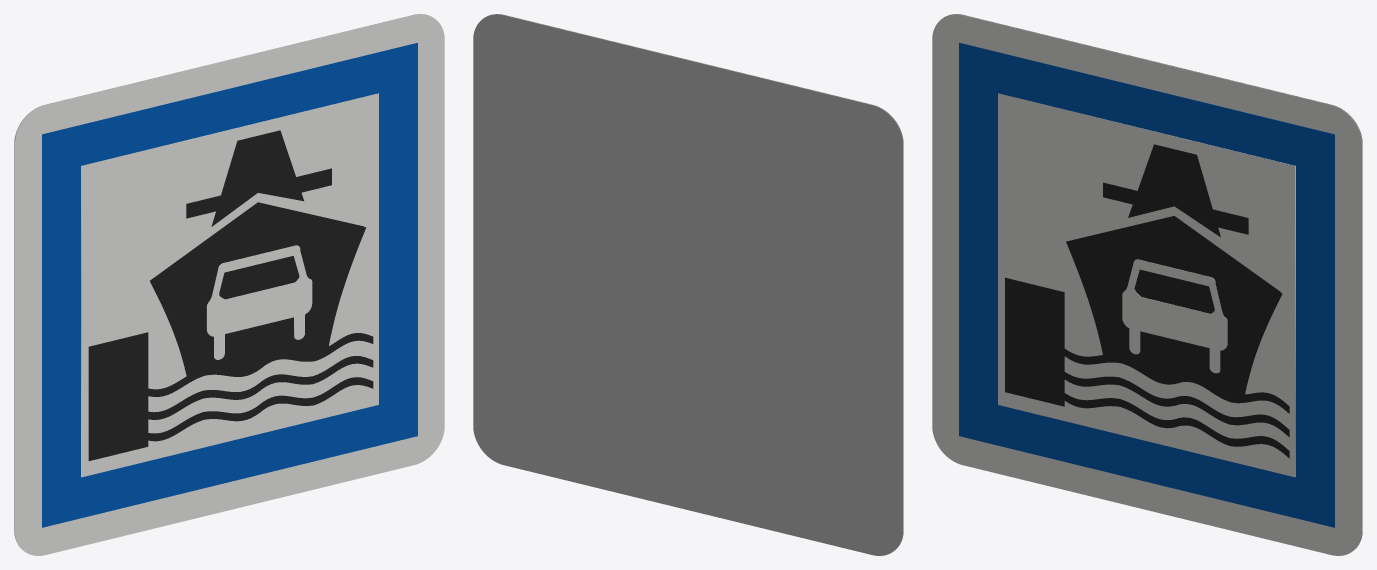
The picture shows the model from 3 angles, left to right: view 1: azimuth 30°, elevation 25°; view 2: azimuth 150°, elevation 25°; view 3: azimuth 330°, elevation 25°; orthographic projection.
Visible parts, largest first — view 1: CE10_p01, CE10_p02, CE10_p00, CE10_p04, CE10_p07, CE10_p03, CE10_p06, CE10_dos; view 2: CE10_dos, CE10_p00; view 3: CE10_p01, CE10_p02, CE10_p00, CE10_p04, CE10_p07, CE10_p03, CE10_p06, CE10_dos.
Part boxes in pixels (x1,y1,x2,y2): CE10_p01: [42, 42, 417, 527]; CE10_p02: [81, 93, 378, 477]; CE10_p00: [14, 14, 444, 555]; CE10_p04: [88, 202, 373, 460]; CE10_p07: [206, 245, 312, 359]; CE10_p03: [186, 130, 331, 226]; CE10_p06: [219, 256, 299, 299]; CE10_dos: [14, 14, 431, 547]; CE10_dos: [473, 14, 903, 555]; CE10_p00: [486, 14, 903, 547]; CE10_p01: [959, 42, 1334, 527]; CE10_p02: [998, 93, 1295, 477]; CE10_p00: [932, 14, 1362, 555]; CE10_p04: [1005, 215, 1289, 458]; CE10_p07: [1122, 259, 1227, 373]; CE10_p03: [1103, 144, 1248, 237]; CE10_p06: [1134, 269, 1214, 313]; CE10_dos: [945, 14, 1362, 547].
Bounding box in the file's own units: 0.7 × 0.6999 × 0.0047.
